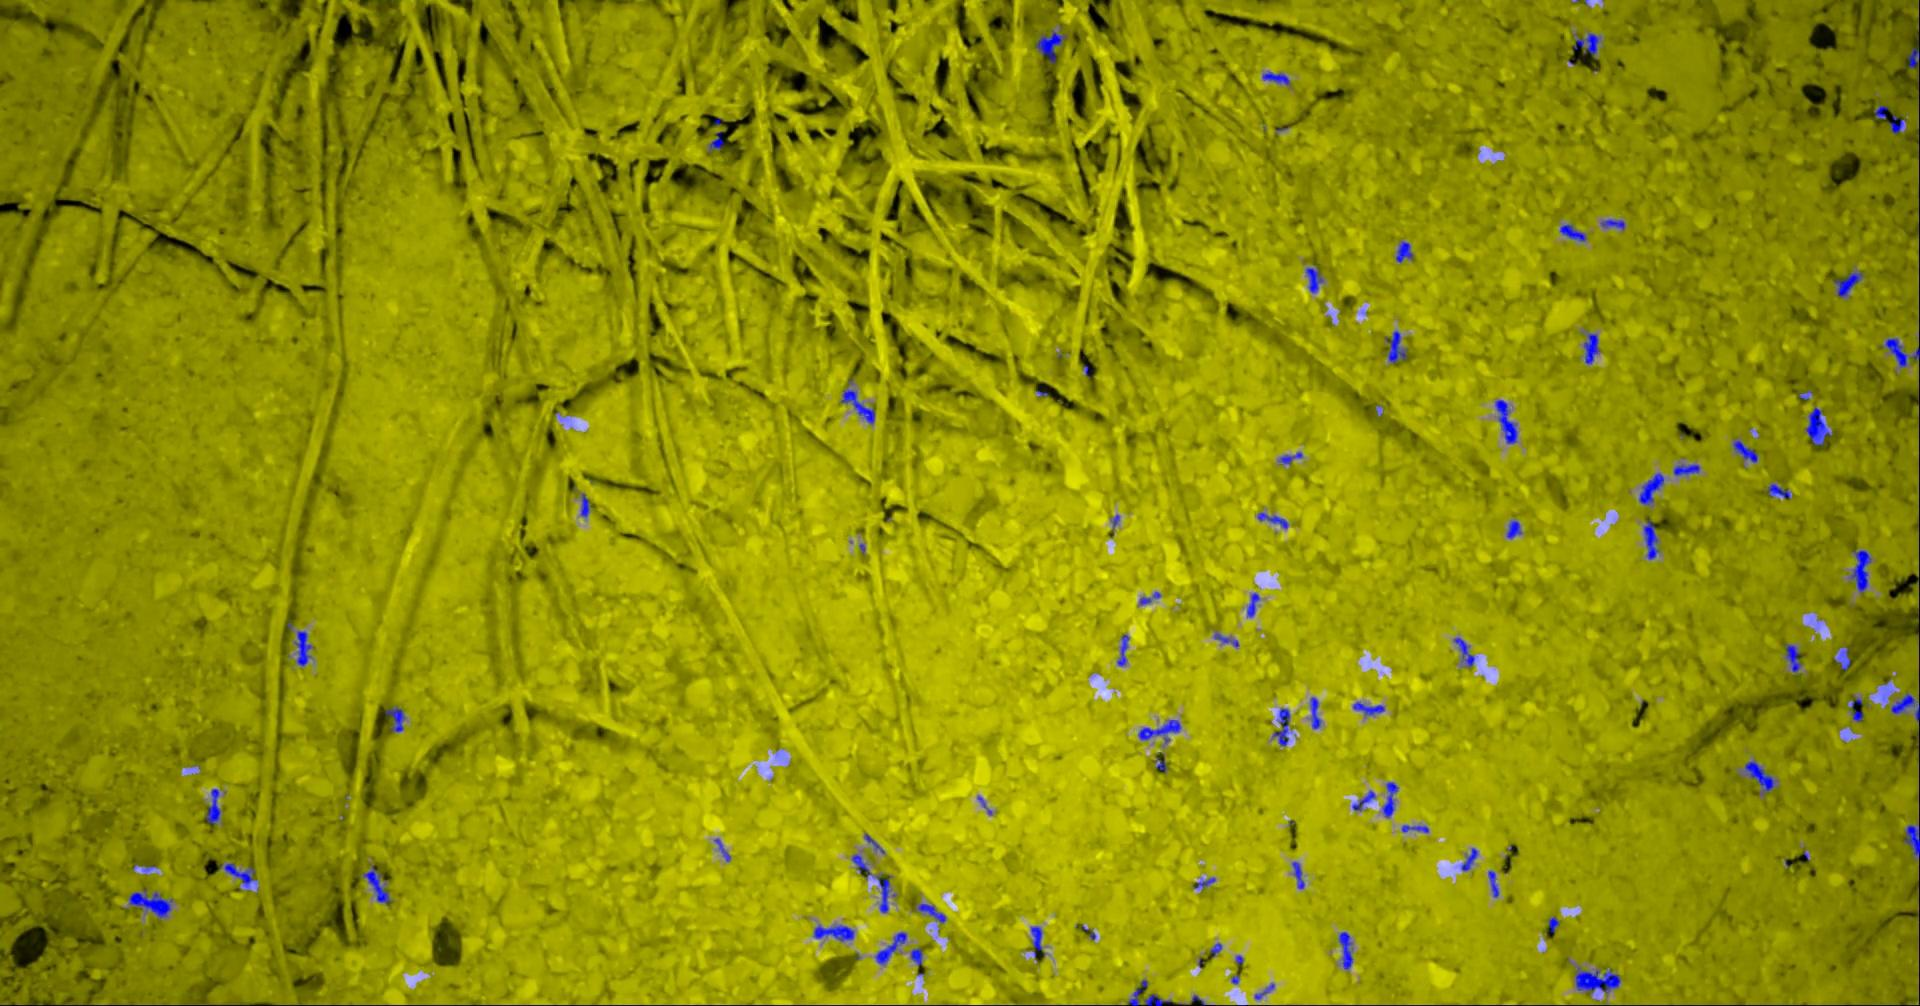ant: (128, 888, 171, 918), (1575, 967, 1620, 993), (841, 389, 874, 424), (1881, 337, 1919, 367), (362, 864, 391, 903), (1128, 979, 1171, 1005), (1804, 406, 1832, 445), (1743, 760, 1775, 793), (1137, 719, 1180, 743), (1495, 399, 1517, 443), (1035, 30, 1065, 64), (875, 931, 905, 964), (218, 862, 257, 887), (1850, 549, 1870, 592), (1890, 692, 1919, 721), (1638, 473, 1663, 506), (1832, 271, 1863, 297), (1384, 330, 1407, 363), (811, 923, 853, 941), (876, 874, 895, 912), (1573, 32, 1600, 58), (1271, 708, 1289, 746), (295, 630, 312, 666), (1453, 636, 1474, 666), (1643, 520, 1658, 559), (1732, 439, 1757, 462), (204, 788, 220, 824), (1382, 781, 1397, 817), (917, 903, 945, 922), (1256, 512, 1288, 528), (1338, 931, 1352, 968), (1903, 824, 1919, 857), (1351, 790, 1375, 810), (1583, 333, 1599, 365), (1559, 224, 1586, 241), (383, 708, 404, 730), (1784, 644, 1801, 671), (851, 854, 870, 876), (1305, 267, 1322, 292), (863, 833, 884, 854), (1832, 647, 1850, 669), (712, 838, 730, 861), (1352, 701, 1384, 714), (1030, 926, 1043, 956), (1460, 847, 1477, 870), (1907, 47, 1919, 79), (1116, 634, 1128, 666), (1309, 697, 1321, 728), (1262, 71, 1289, 84), (1291, 861, 1304, 888), (1214, 633, 1238, 647), (1396, 241, 1412, 262), (1768, 483, 1789, 498), (1246, 592, 1258, 617), (1850, 694, 1862, 721), (1277, 451, 1302, 464), (1672, 464, 1699, 475), (1487, 870, 1498, 897), (1139, 591, 1161, 605), (1506, 520, 1521, 539), (709, 131, 723, 151), (1890, 116, 1905, 133), (1192, 876, 1215, 888), (1545, 916, 1559, 934), (1600, 218, 1624, 229), (580, 493, 590, 517), (1873, 104, 1888, 119), (910, 948, 922, 967), (1401, 824, 1429, 832), (1156, 757, 1166, 772)
